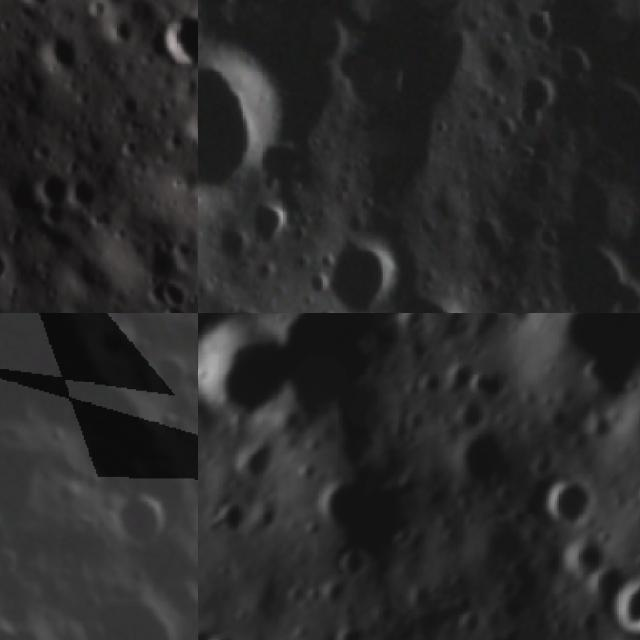crater: (198, 313, 313, 448), (198, 41, 295, 198), (520, 453, 614, 547), (298, 459, 391, 551), (591, 343, 640, 509), (442, 414, 530, 504), (311, 236, 408, 313), (541, 239, 638, 313), (80, 580, 188, 640), (575, 76, 640, 171), (15, 162, 92, 240), (29, 23, 104, 99), (580, 541, 640, 633), (162, 139, 198, 282), (457, 351, 523, 418), (552, 520, 616, 586), (225, 427, 290, 490), (108, 491, 170, 550), (156, 0, 198, 85), (507, 78, 567, 136), (248, 204, 302, 258), (142, 264, 198, 313), (203, 484, 254, 534), (215, 223, 262, 277), (387, 285, 465, 313), (513, 6, 560, 52), (332, 540, 378, 586), (448, 597, 497, 640), (246, 492, 291, 537), (550, 46, 592, 88), (323, 610, 379, 640), (0, 236, 25, 301), (201, 616, 255, 640), (487, 313, 549, 333), (181, 98, 198, 157)
